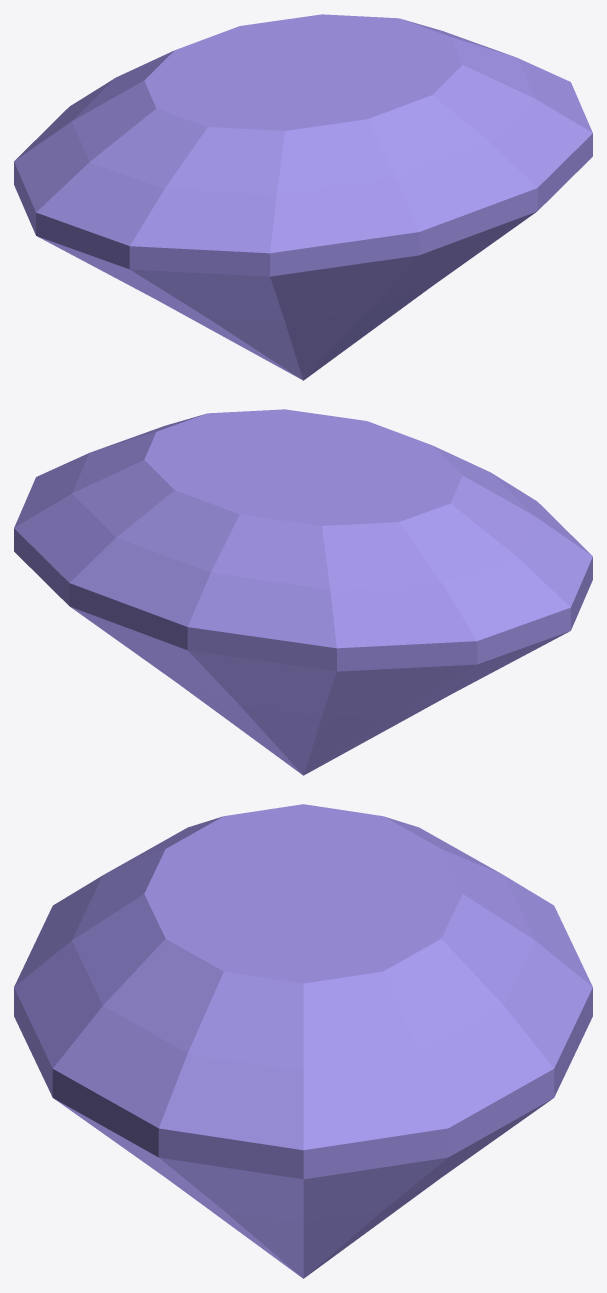
File: tanzanite-glass.glb
3 renders of one model, top to bottom at view 1: azimuth 30°, elevation 25°; view 2: azimuth 150°, elevation 25°; view 3: azimuth 270°, elevation 25°, orthographic. The views are drawn at different scales.
Visible parts, largest first — view 1: Tanzanite; view 2: Tanzanite; view 3: Tanzanite.
Boxes of the visible parts, x1,y1,x2,y2 form: Tanzanite: (14,14,592,380); Tanzanite: (14,409,592,775); Tanzanite: (14,804,592,1278).
Bounding box in the file's own units: 2.4 × 1.32 × 1.8.
